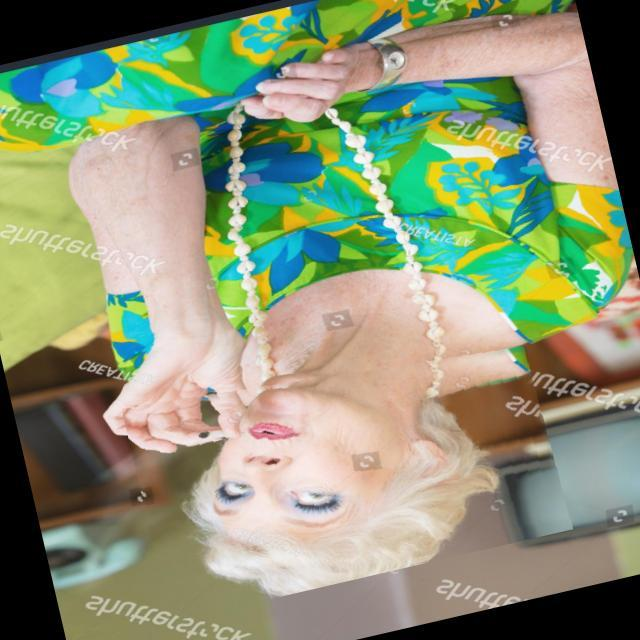cigarette: (186, 400, 266, 456)
